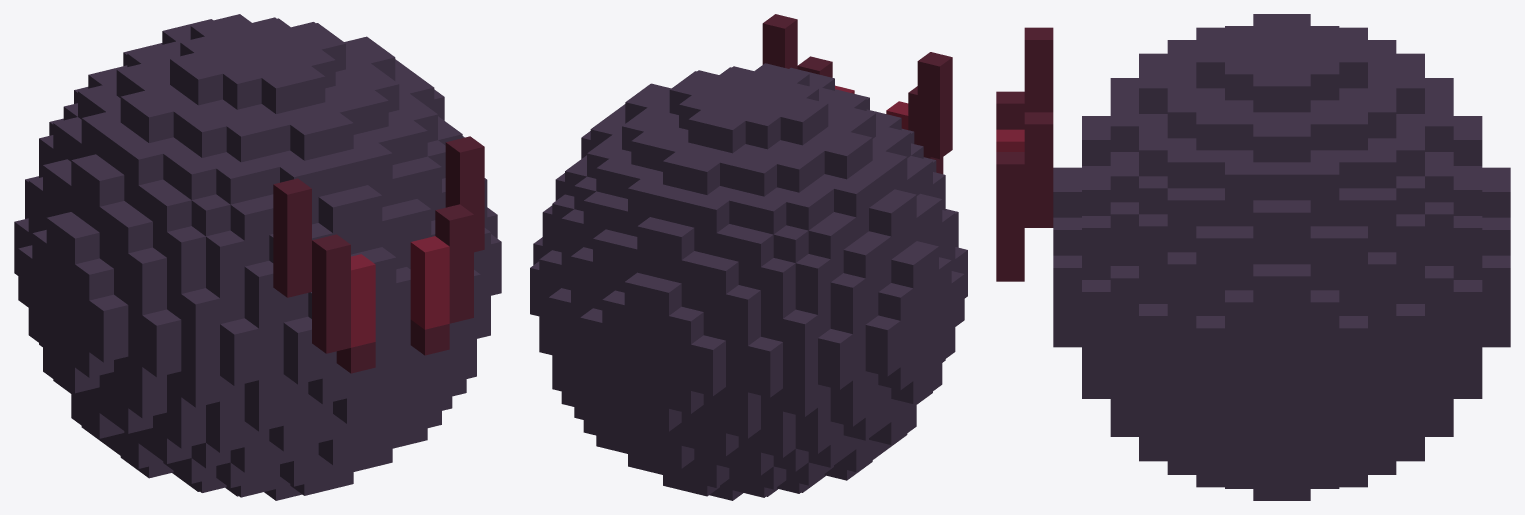
3 renders of one model, left to right at view 1: azimuth 30°, elevation 25°; view 2: azimuth 150°, elevation 25°; view 3: azimuth 270°, elevation 25°, orthographic. The views are drawn at different scales.
Visible parts, largest first — view 1: PJ_v1_Node; view 2: PJ_v1_Node; view 3: PJ_v1_Node.
Boxes of the visible parts, x1=… form: PJ_v1_Node: x1=14, y1=14, x2=501, y2=500; PJ_v1_Node: x1=530, y1=14, x2=967, y2=500; PJ_v1_Node: x1=996, y1=14, x2=1510, y2=500.
Size of the model in its own units: 16 by 16 by 18.
Materials: 1 (1 with a texture image).
